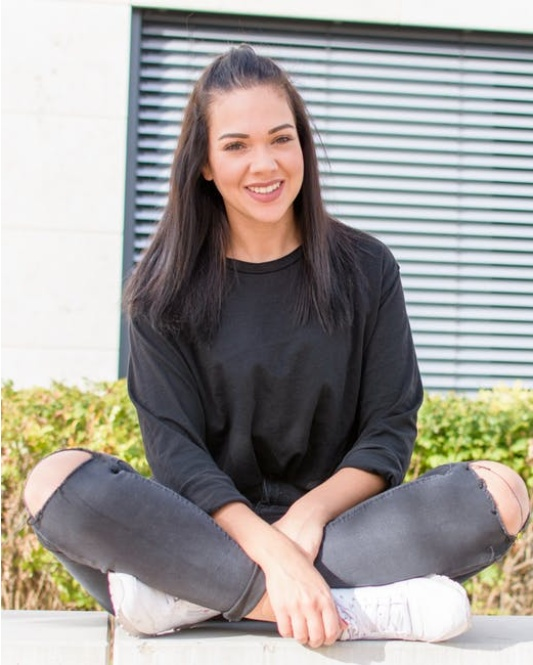face: (209, 89, 304, 222)
